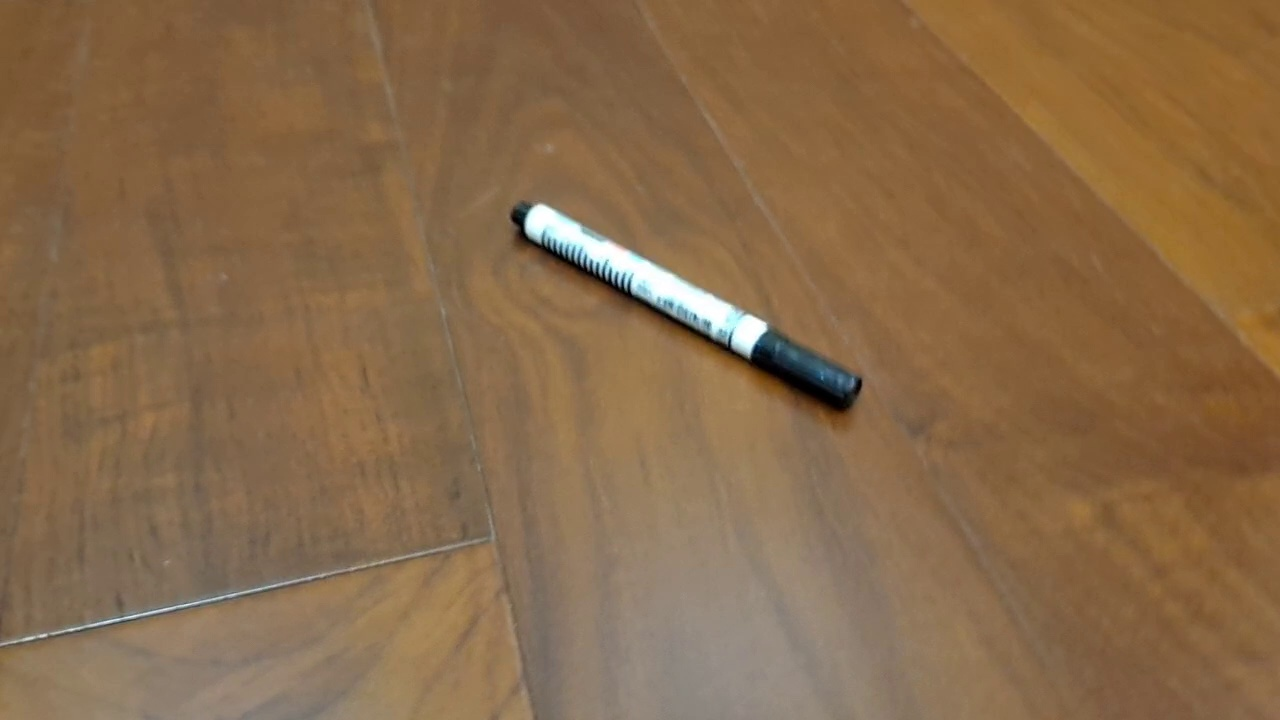pen: (509, 200, 863, 413)
